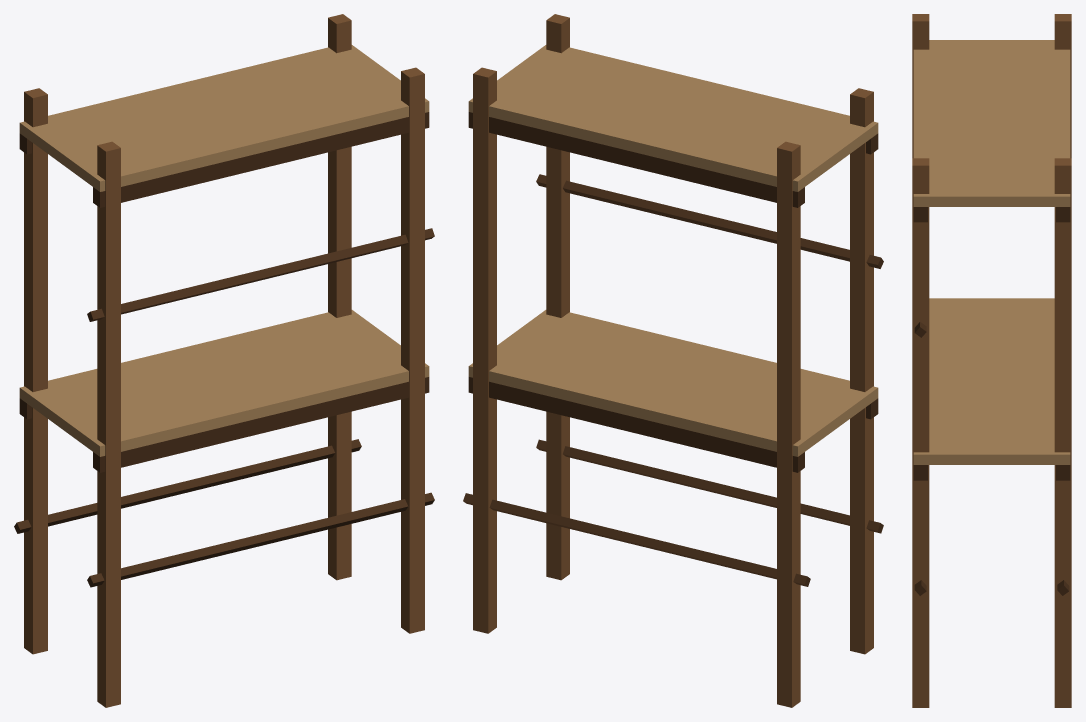
Rendered from dc_scaffold.glb.
3 renders of one model, left to right at view 1: azimuth 30°, elevation 25°; view 2: azimuth 150°, elevation 25°; view 3: azimuth 270°, elevation 25°, orthographic. The views are drawn at different scales.
Parts seen in each view (by area): view 1: dc_scaffold; view 2: dc_scaffold; view 3: dc_scaffold.
Boxes of the visible parts, x1,y1,x2,y2 form: dc_scaffold: (14, 14, 434, 707); dc_scaffold: (463, 14, 883, 707); dc_scaffold: (912, 14, 1071, 707).
Bounding box in the file's own units: 2.7 × 4.2 × 1.12.
